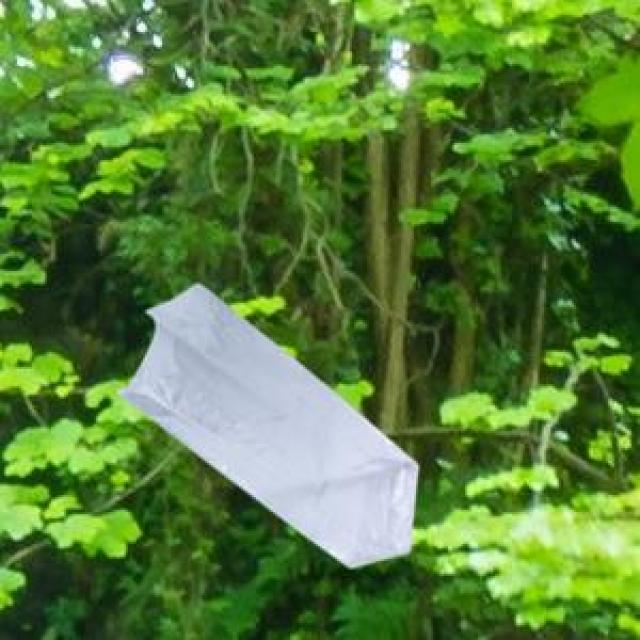plastic: (92, 230, 507, 594)
